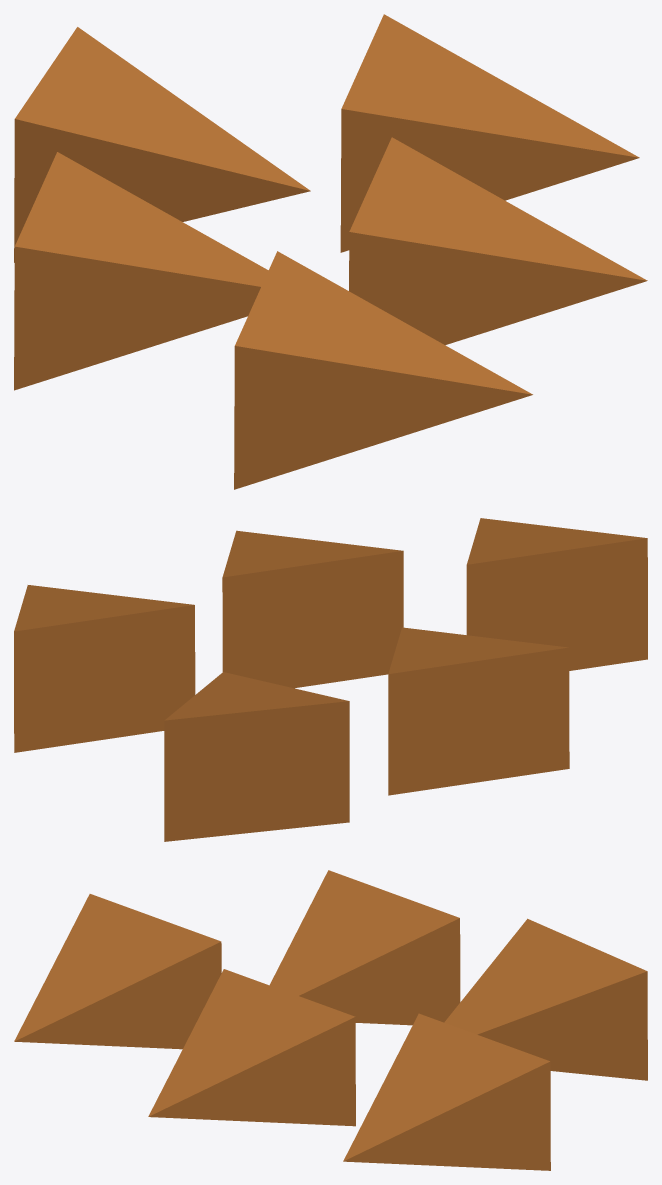
Rendered from copper_arrowheads.glb.
3 views of the same model, one above another, from view 1: azimuth 30°, elevation 25°; view 2: azimuth 150°, elevation 25°; view 3: azimuth 270°, elevation 25° (orthographic). The views are drawn at different scales.
Visible parts, largest first — view 1: copper_arrowheads; view 2: copper_arrowheads; view 3: copper_arrowheads.
Boxes of the visible parts, x1,y1,x2,y2 form: copper_arrowheads: (14,14,647,489); copper_arrowheads: (14,518,647,841); copper_arrowheads: (14,870,647,1170).
Bounding box in the file's own units: 0.0882 × 0.0191 × 0.1002.
